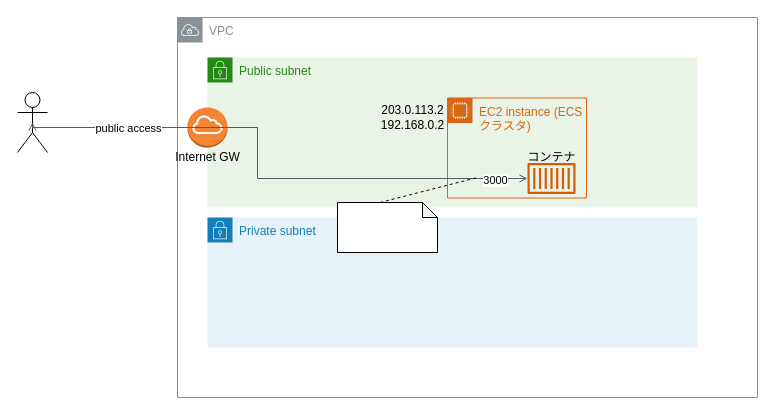
Some shapes in this 775 by 415 pixel diagram are drawn without their labels. The shapes that lost their labels are listed below. From the top down, each one's centre as x and y in pixels, then its label:
(32,122): User
(387,227): 実際には アクセスできない
